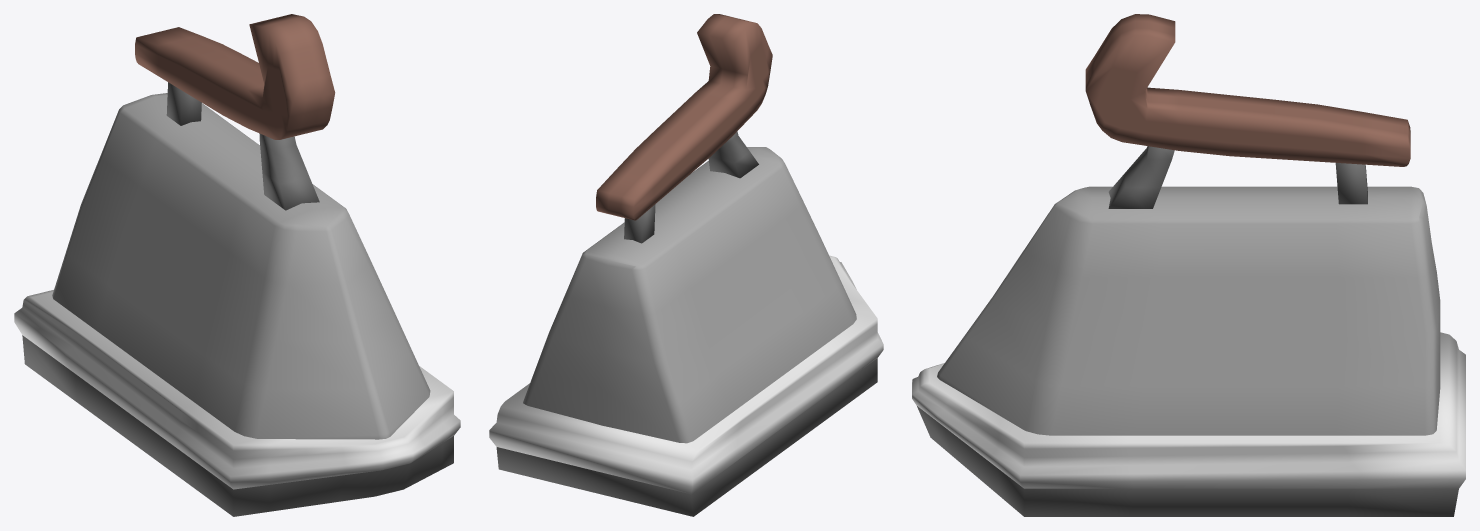
The model's file is props_iron.fbx.
The picture shows the model from 3 angles, left to right: view 1: azimuth 30°, elevation 25°; view 2: azimuth 150°, elevation 25°; view 3: azimuth 270°, elevation 25°; orthographic projection. The views are drawn at different scales.
Parts seen in each view (by area): view 1: base_fer_a_repasser; view 2: base_fer_a_repasser; view 3: base_fer_a_repasser.
Part boxes in pixels (left/top/right/bottom): base_fer_a_repasser: left=14, top=14, right=460, bottom=516; base_fer_a_repasser: left=489, top=14, right=883, bottom=516; base_fer_a_repasser: left=912, top=14, right=1465, bottom=516.
Bounding box in the file's own units: 34.02 × 68.91 × 59.96.
